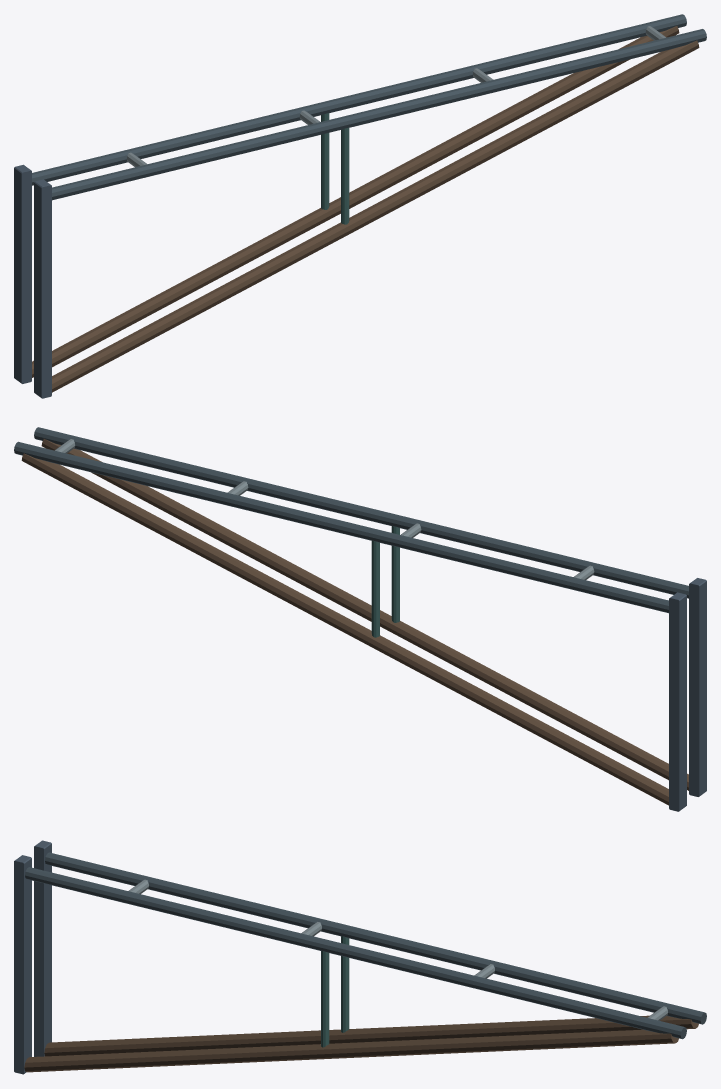
File: HG-03_wall_cantilever.glb
3 views of the same model, one above another, from view 1: azimuth 30°, elevation 25°; view 2: azimuth 150°, elevation 25°; view 3: azimuth 330°, elevation 25° (orthographic).
Visible parts, largest first — view 1: HG-03_wall_cantilever; view 2: HG-03_wall_cantilever; view 3: HG-03_wall_cantilever.
Part boxes in pixels (<box>): HG-03_wall_cantilever: <box>14,14,706,398</box>; HG-03_wall_cantilever: <box>14,427,706,811</box>; HG-03_wall_cantilever: <box>14,840,706,1074</box>.
Size of the model in its own units: 11.55 by 3.52 by 0.83.
